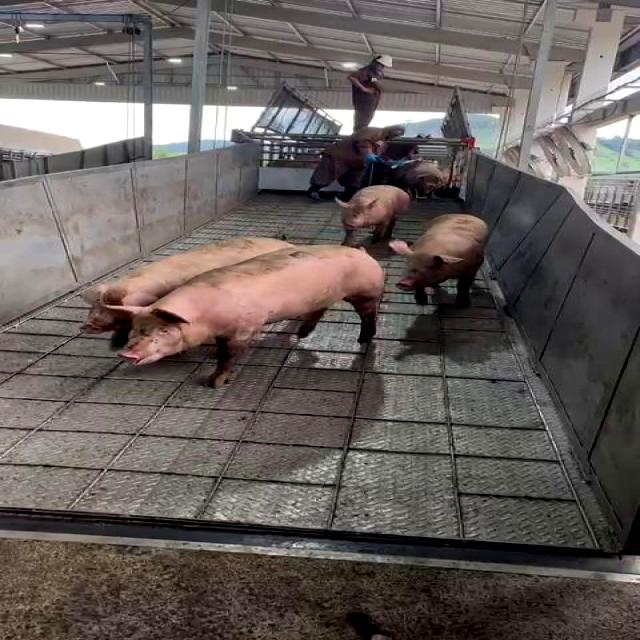pig: (120, 246, 383, 385), (82, 236, 292, 349), (391, 214, 488, 306), (340, 185, 410, 245)
